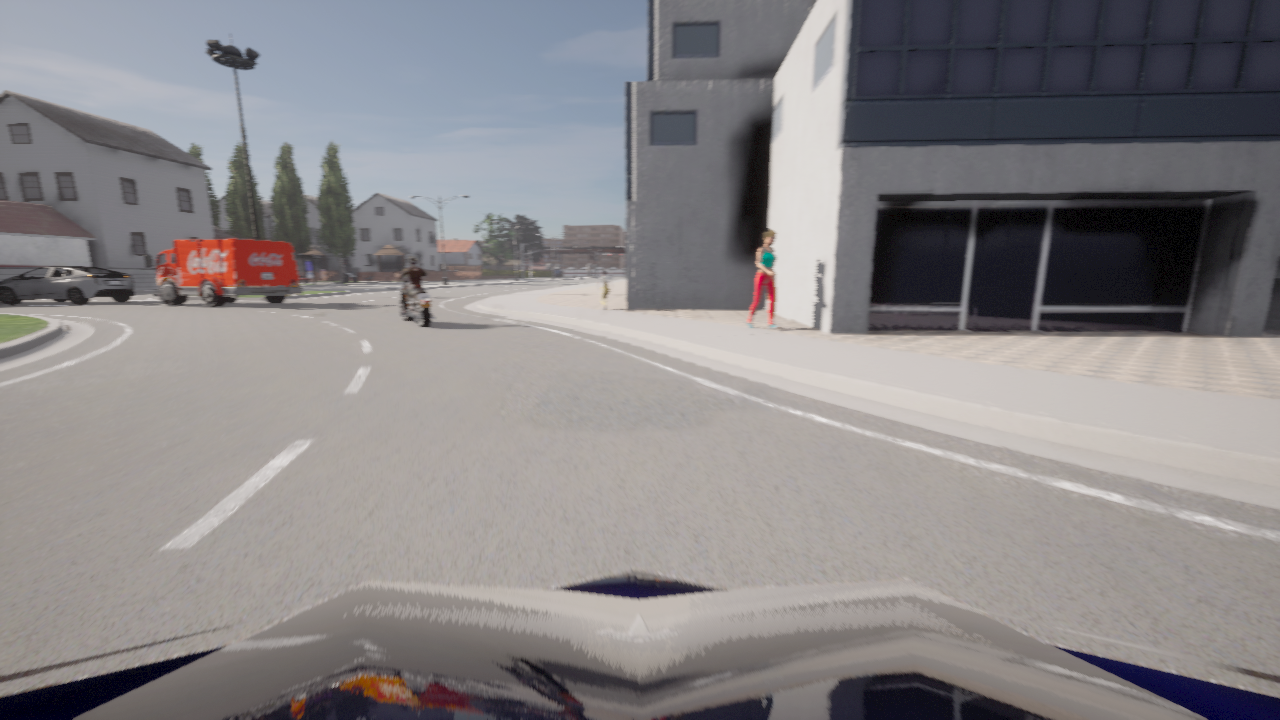cyclist: (0, 569, 1279, 719), (144, 238, 301, 307), (0, 266, 134, 304), (393, 271, 434, 327)
pedestrian: (746, 230, 780, 329), (597, 269, 612, 310)
